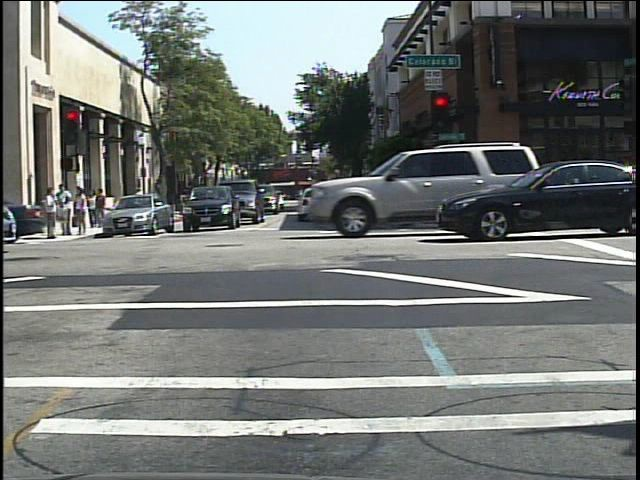person: (175, 183, 192, 218), (132, 183, 147, 216), (89, 187, 99, 231)
